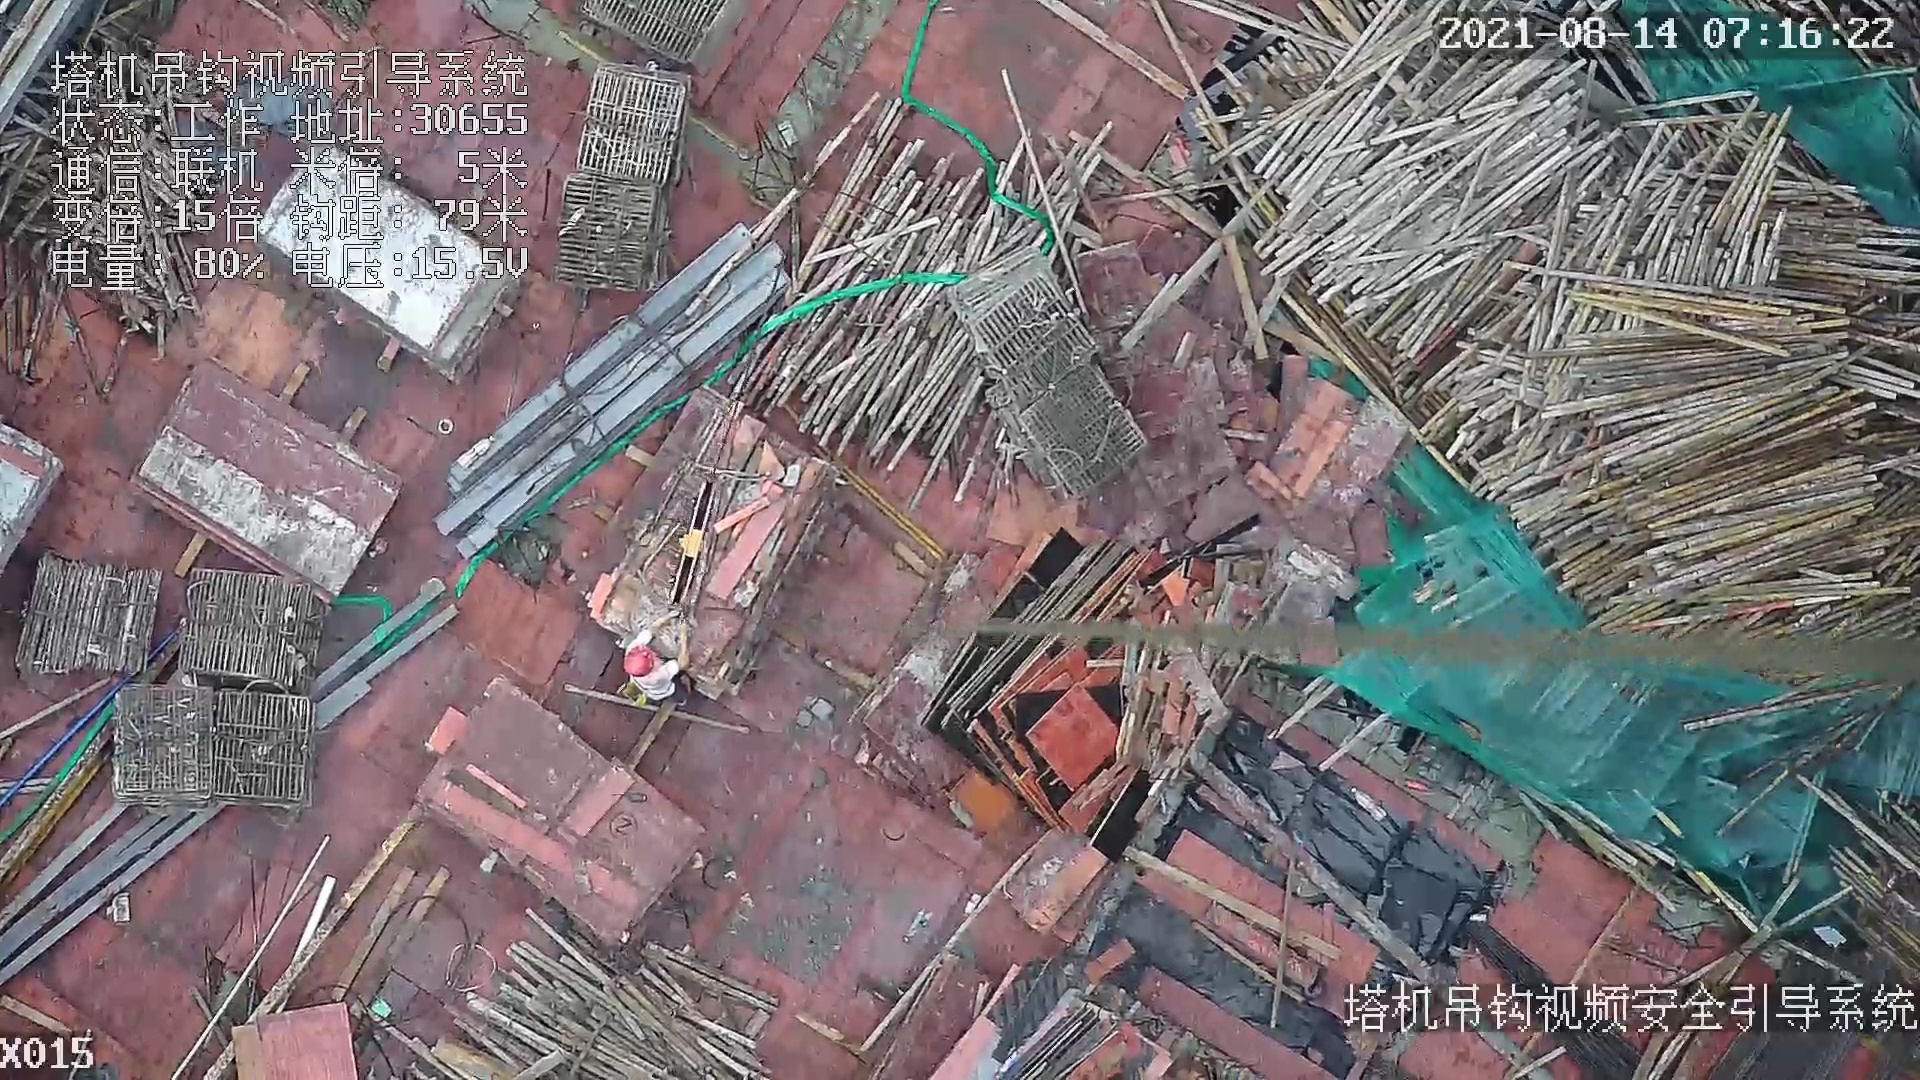helmet: (619, 642, 655, 679)
hook: (662, 472, 719, 613)
person: (628, 609, 691, 706)
